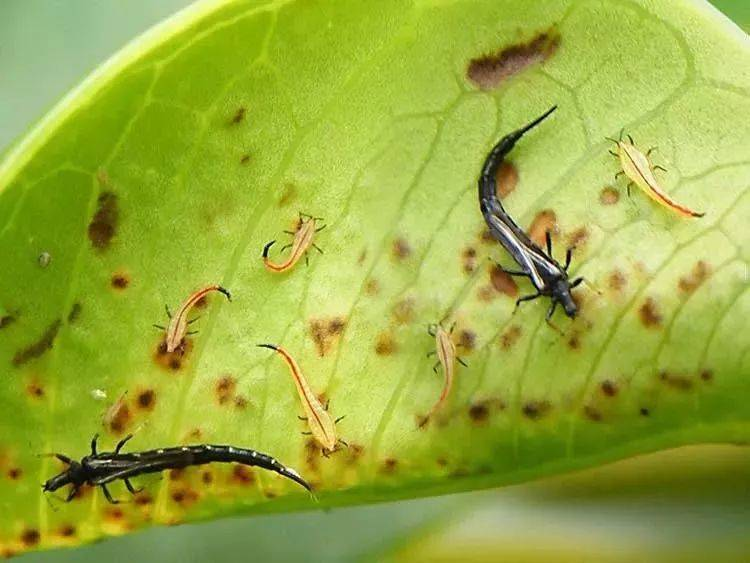Phlaeothripidae: (476, 99, 594, 328), (38, 437, 322, 507), (252, 338, 349, 461), (603, 127, 708, 218), (146, 278, 239, 369), (414, 321, 468, 430), (260, 207, 322, 280)
